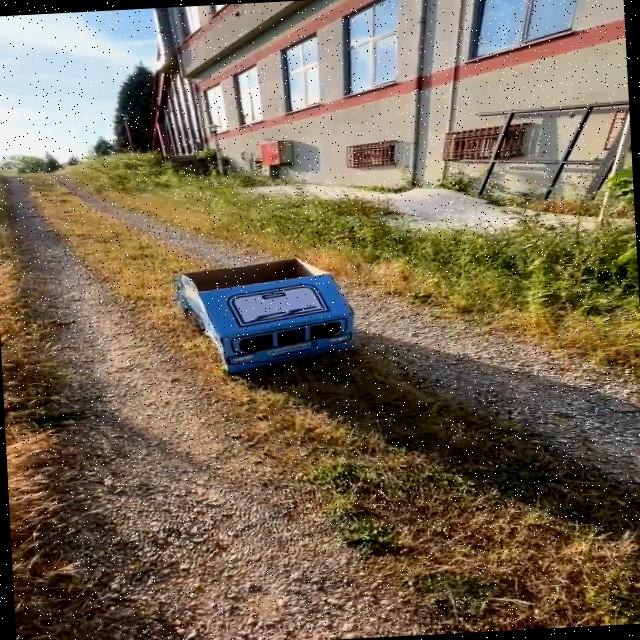blue_car: (145, 231, 403, 419)
